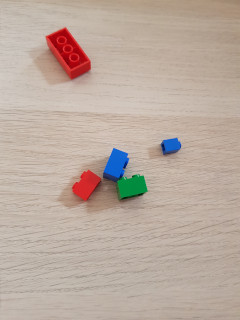1x1 blue: (158, 135, 182, 158)
1x2 red: (72, 170, 101, 202)
2x2 blue: (100, 143, 131, 180)
2x2 green: (117, 174, 149, 201)
2x4 red: (44, 26, 93, 82)
